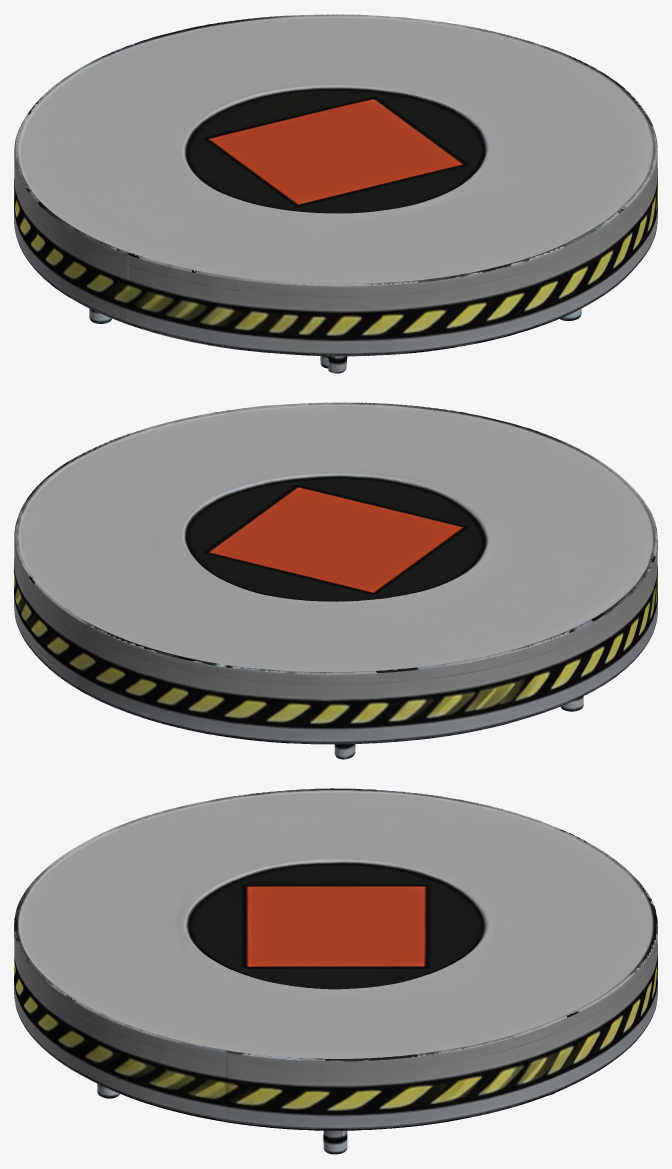
Rendered from hunyuan_launch_pad_base_textured.glb.
The picture shows the model from 3 angles, top to bottom: view 1: azimuth 30°, elevation 25°; view 2: azimuth 150°, elevation 25°; view 3: azimuth 270°, elevation 25°; orthographic projection.
Visible parts, largest first — view 1: tmp0norr5j3.ply; view 2: tmp0norr5j3.ply; view 3: tmp0norr5j3.ply.
Boxes of the visible parts, bbox=[...] form: tmp0norr5j3.ply: bbox=[14, 14, 657, 373]; tmp0norr5j3.ply: bbox=[14, 402, 657, 759]; tmp0norr5j3.ply: bbox=[14, 788, 657, 1154].
Size of the model in its own units: 2 by 0.3881 by 2.
Materials: 1 (1 with a texture image).
